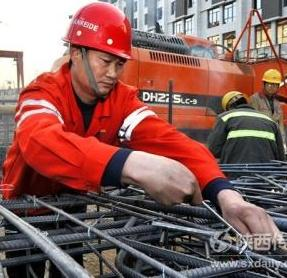gloves: (216, 188, 286, 252), (120, 147, 198, 203)
hard-hat: (61, 2, 136, 60)
vest: (0, 61, 230, 211)
